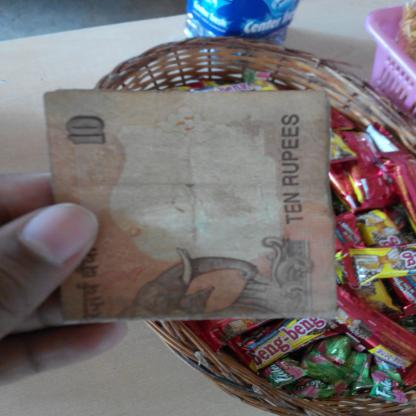Old10Back: (42, 88, 340, 326)
